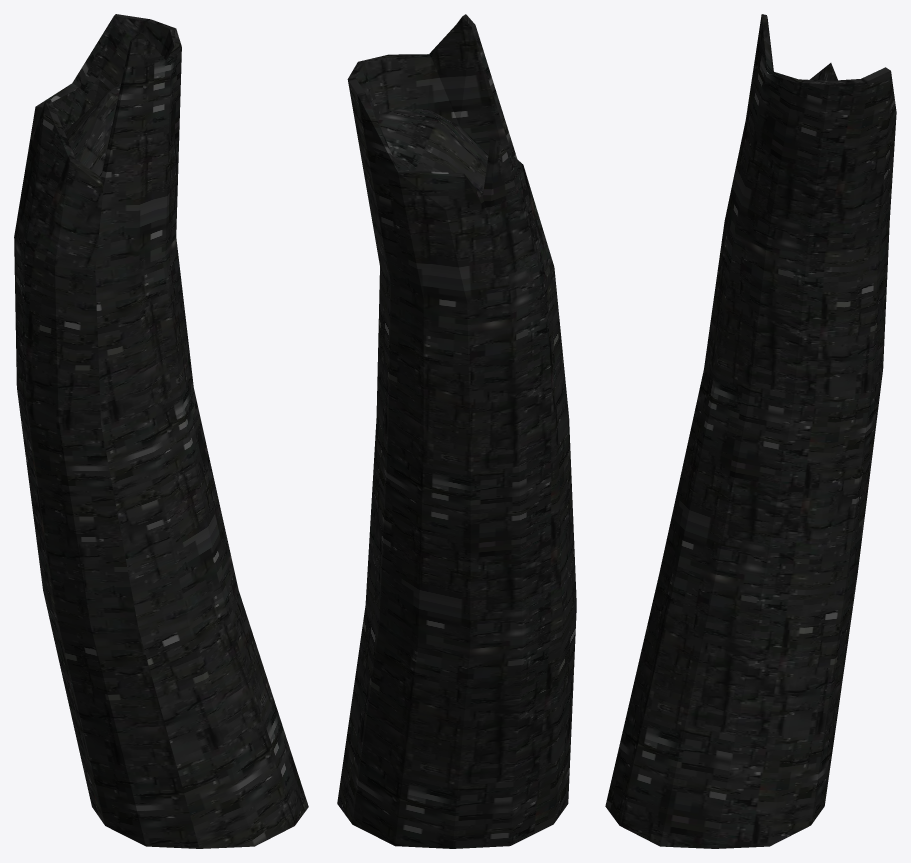
The model's file is 1_BURNT_01_22-transformed.glb.
The picture shows the model from 3 angles, left to right: view 1: azimuth 30°, elevation 25°; view 2: azimuth 150°, elevation 25°; view 3: azimuth 270°, elevation 25°; orthographic projection. The views are drawn at different scales.
Parts seen in each view (by area): view 1: default; view 2: default; view 3: default.
Boxes of the visible parts, x1,y1,x2,y2 form: default: (14,14,308,848); default: (337,14,576,848); default: (605,14,896,848).
Size of the model in its own units: 1.25 by 3.99 by 1.36.
1 material, 1 textured.
